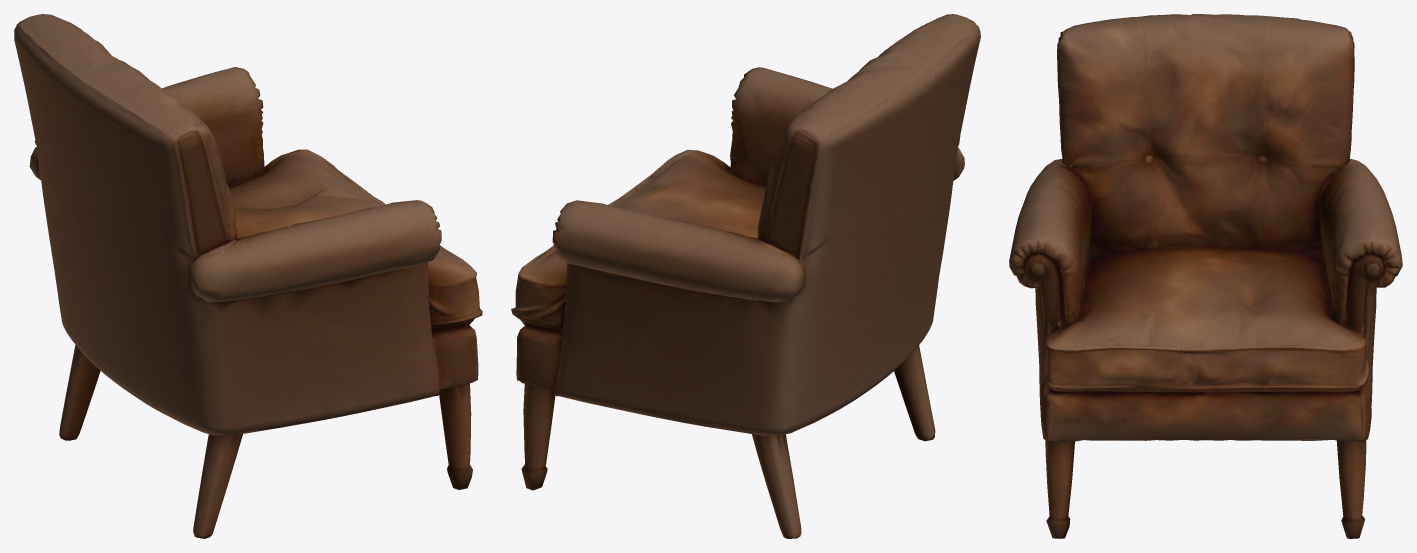
The model's file is prop_armchair-PzPaIfZ1.glb.
3 views of the same model, side by side, from view 1: azimuth 30°, elevation 25°; view 2: azimuth 150°, elevation 25°; view 3: azimuth 270°, elevation 25° (orthographic). The views are drawn at different scales.
Parts seen in each view (by area): view 1: tripo_node_86338fbc-2a06-4b4d-926b-2e2e3154aa0f; view 2: tripo_node_86338fbc-2a06-4b4d-926b-2e2e3154aa0f; view 3: tripo_node_86338fbc-2a06-4b4d-926b-2e2e3154aa0f.
Part boxes in pixels (bbox=[...]): tripo_node_86338fbc-2a06-4b4d-926b-2e2e3154aa0f: bbox=[14, 14, 482, 538]; tripo_node_86338fbc-2a06-4b4d-926b-2e2e3154aa0f: bbox=[511, 14, 980, 538]; tripo_node_86338fbc-2a06-4b4d-926b-2e2e3154aa0f: bbox=[1009, 14, 1402, 538].
Size of the model in its own units: 0.7992 by 1 by 0.9023.
1 material, 1 textured.
